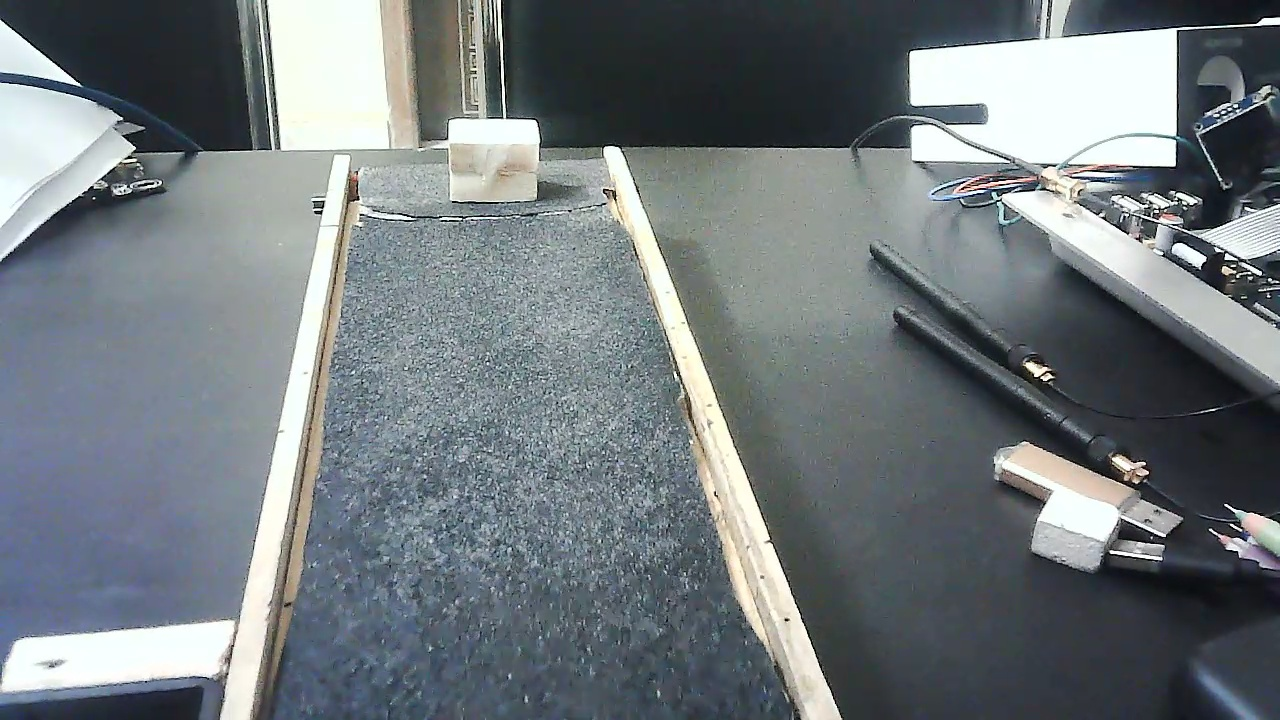Medium: (448, 114, 540, 206)
